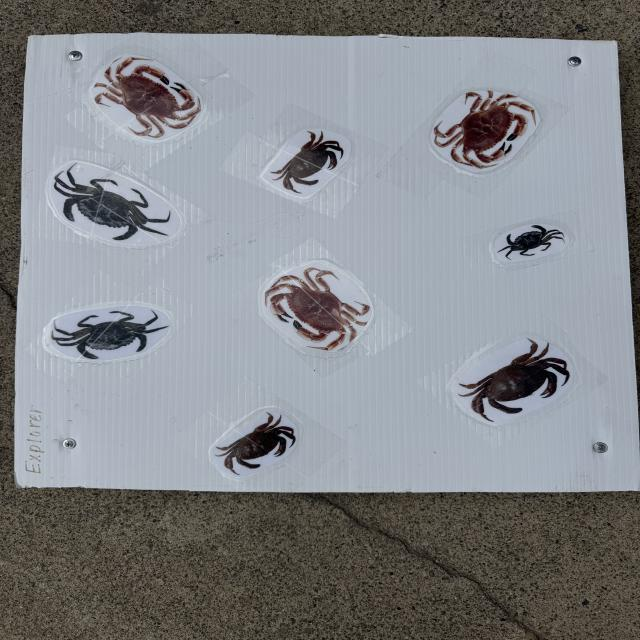green_crab: (54, 169, 170, 240), (52, 312, 167, 359), (500, 225, 564, 258)
jonah_crab: (94, 57, 202, 139), (265, 268, 370, 351), (434, 91, 535, 168)
rock_crab: (459, 339, 570, 421), (217, 413, 295, 475), (271, 131, 344, 194)
